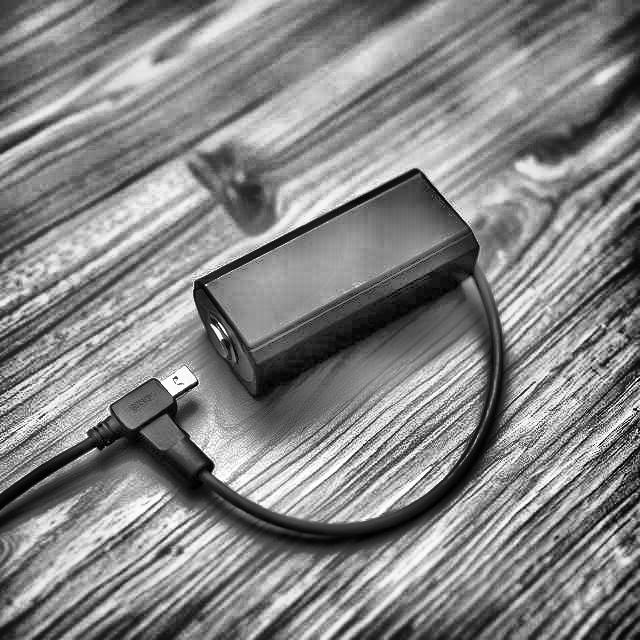Battery: (192, 170, 480, 407)
Cable: (0, 266, 551, 538)
